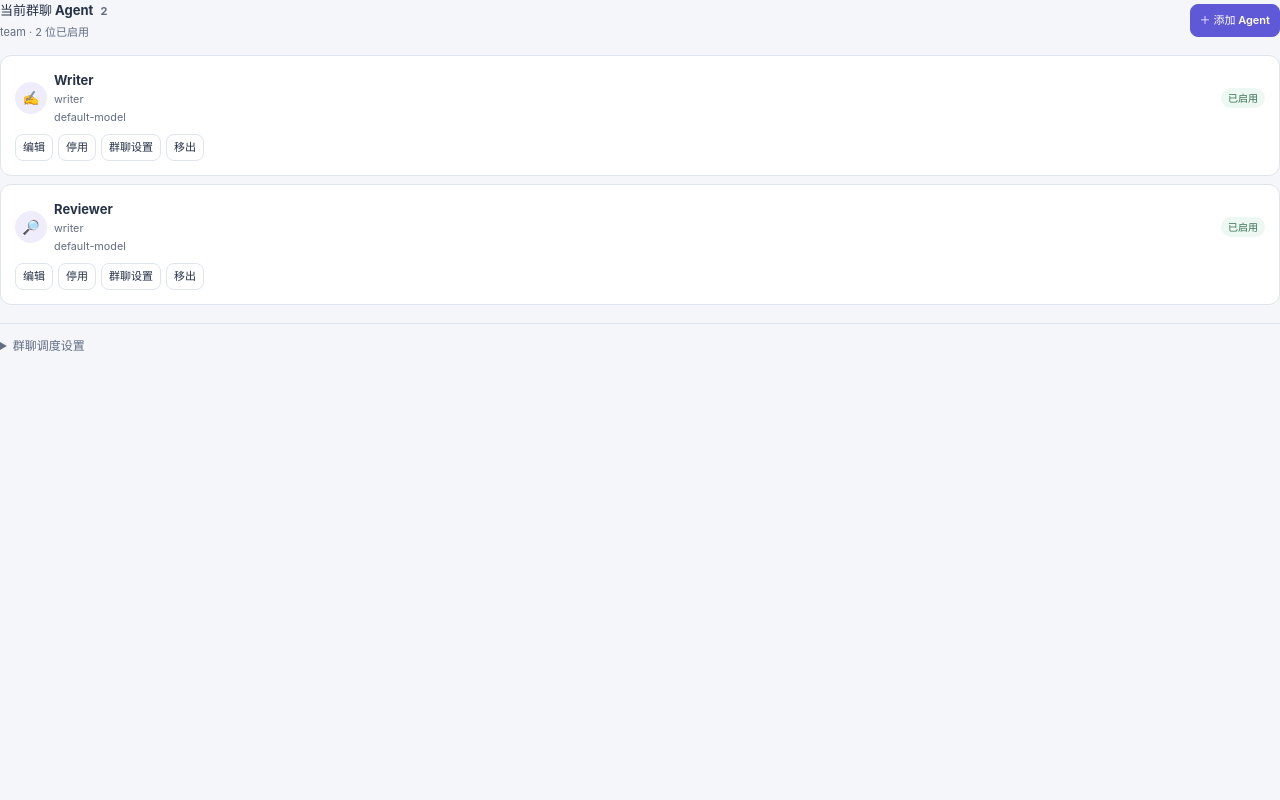
Scenario: creates and joins a custom Agent, retaining its ID if joining needs a retry
Click the button "＋ 添加 Agent": (1235, 21) [1190,4,1279,38]
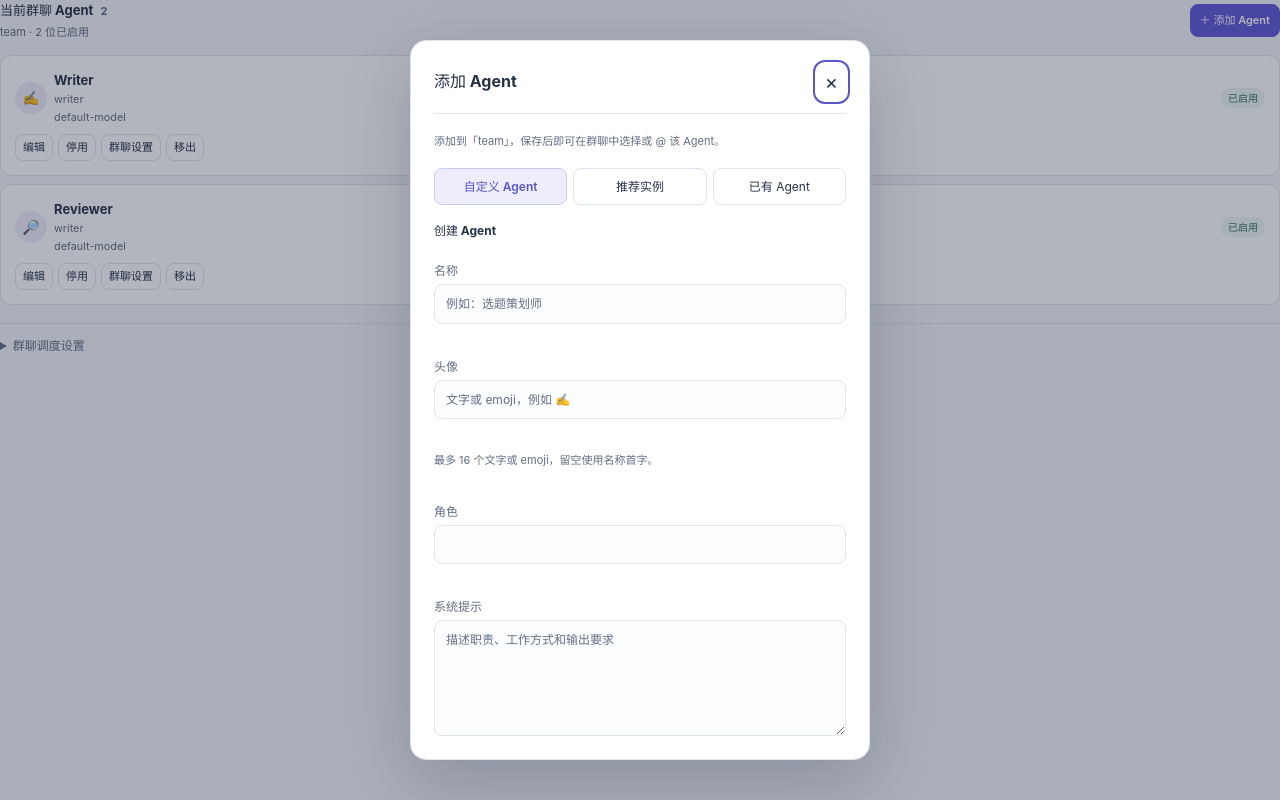
In the field named "Agent 名称": (640, 304) [434,284,846,324], type "新作者"
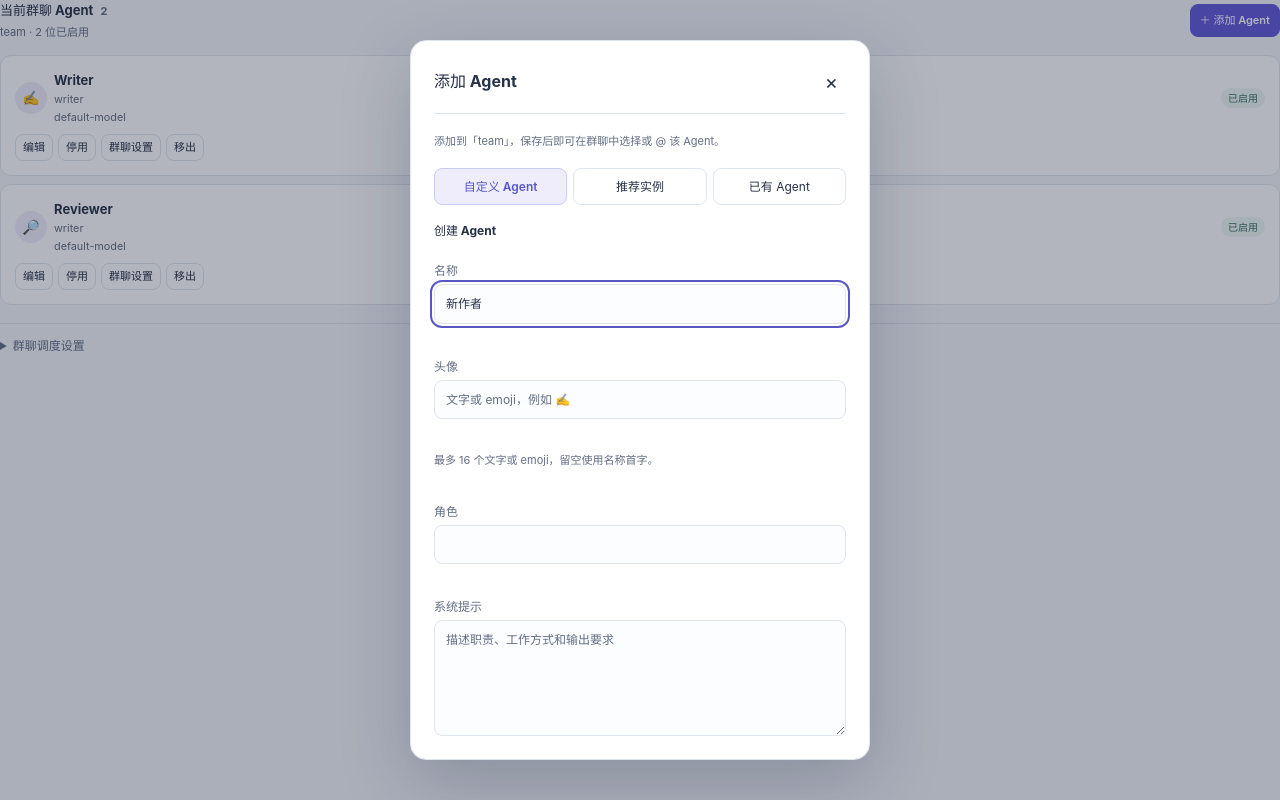
In the field named "Agent 角色": (640, 545) [434,525,846,564], type "作者"
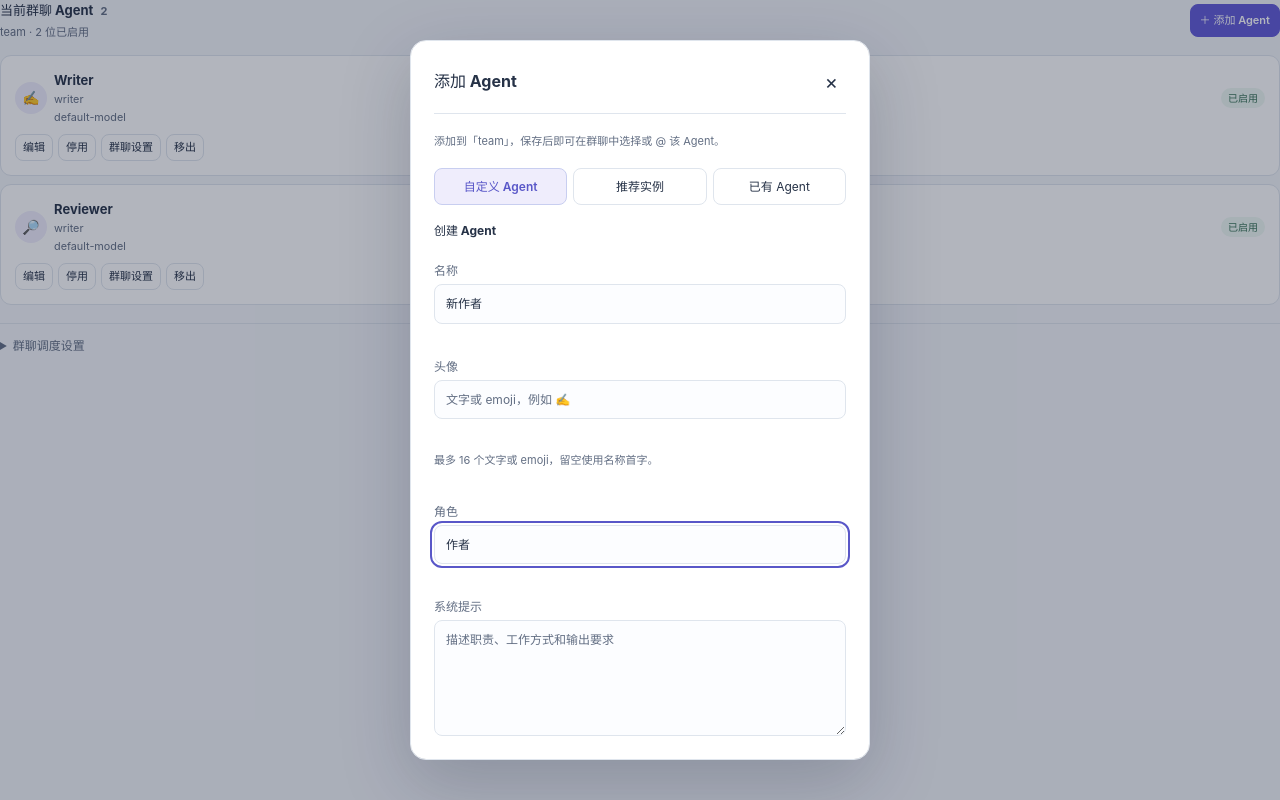
In the text box named "Agent 系统提示": (640, 678) [434,620,846,736], type "写作职责"
(page scrolled)
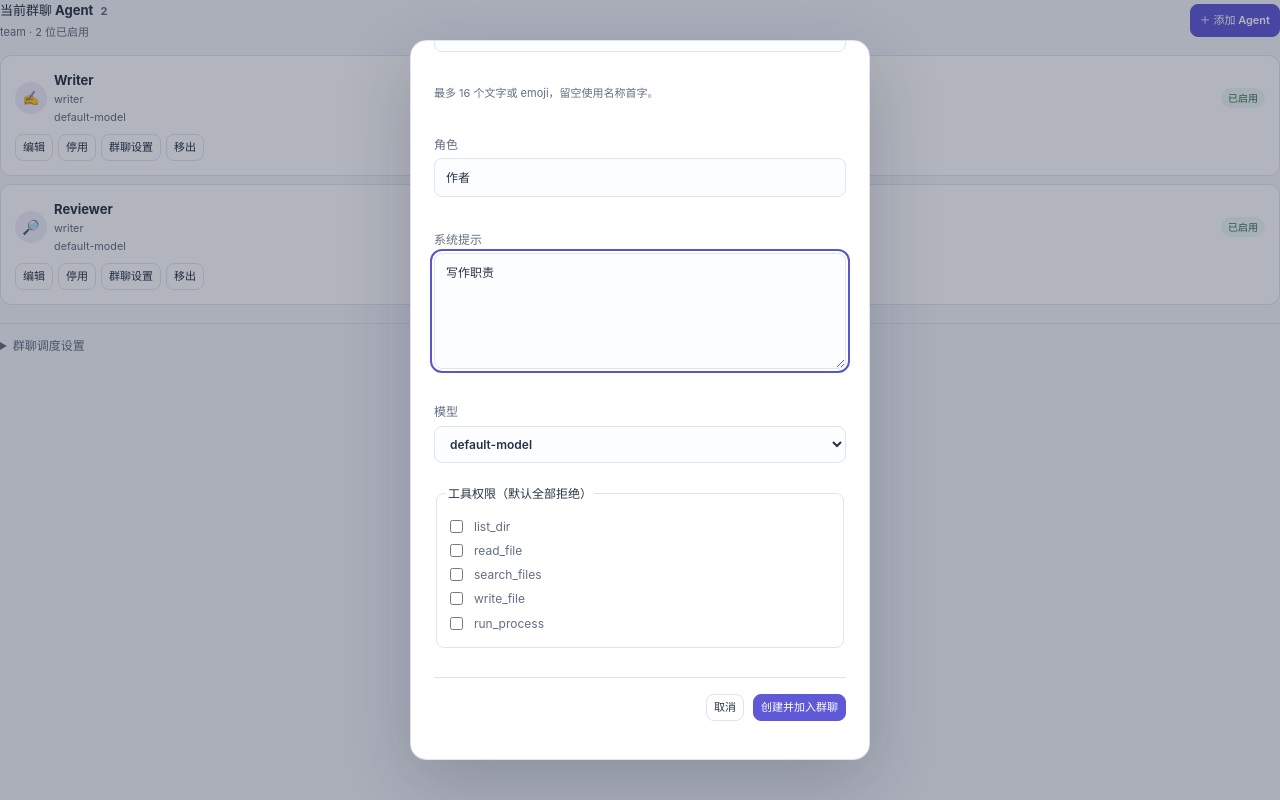
Click the button "创建并加入群聊": (800, 708) [753,694,846,721]
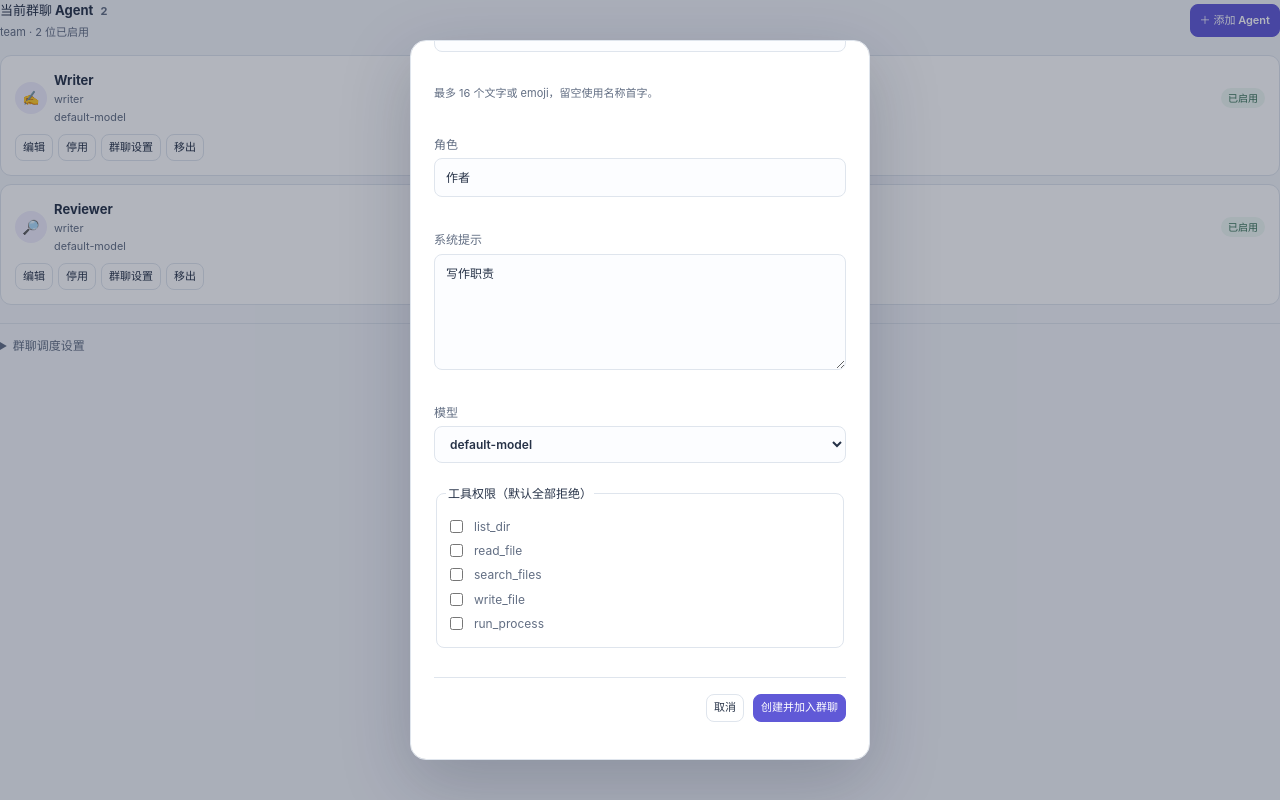
Expected: the dialog "添加 Agent" is shown, [410,40,870,760]
Click the button "创建并加入群聊": (800, 708) [753,694,846,722]
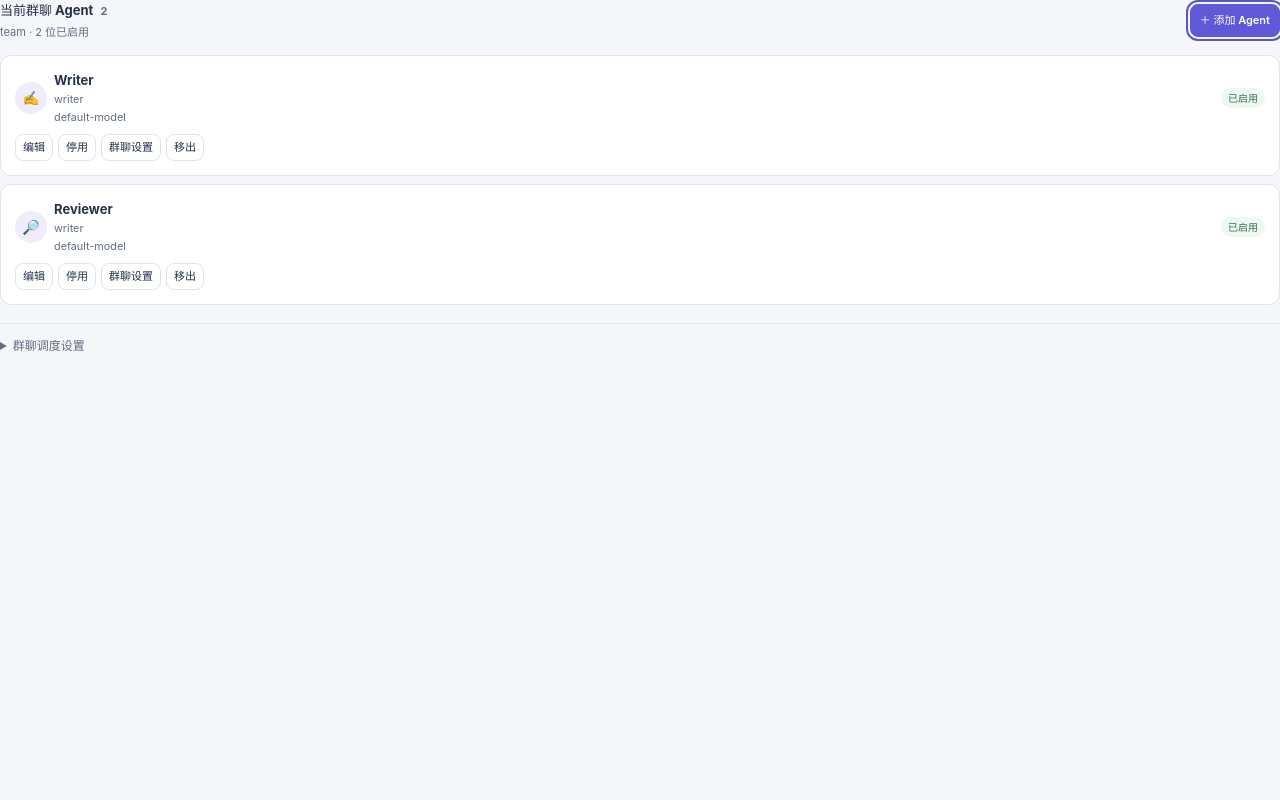
Expected: the dialog is gone
